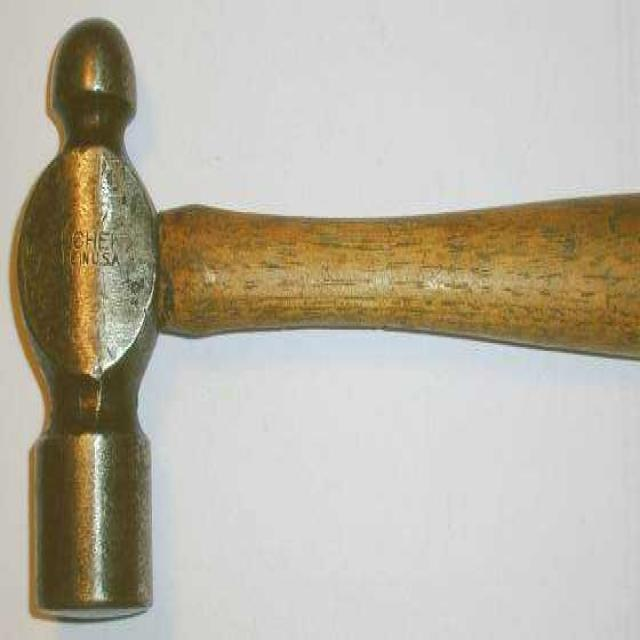hammer: (13, 15, 640, 623)
